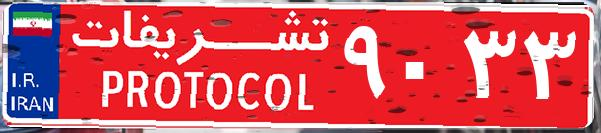0: (400, 20, 460, 115)
3: (460, 20, 520, 115), (520, 20, 580, 115)
9: (340, 20, 400, 115)
تشریفات: (60, 8, 340, 125)
